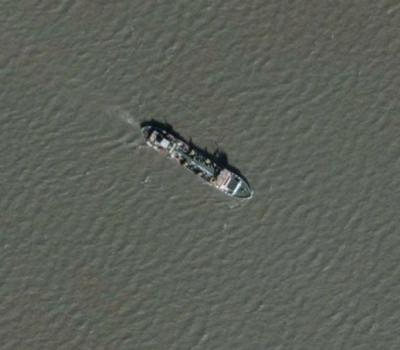Ships: (129, 108, 258, 208)
